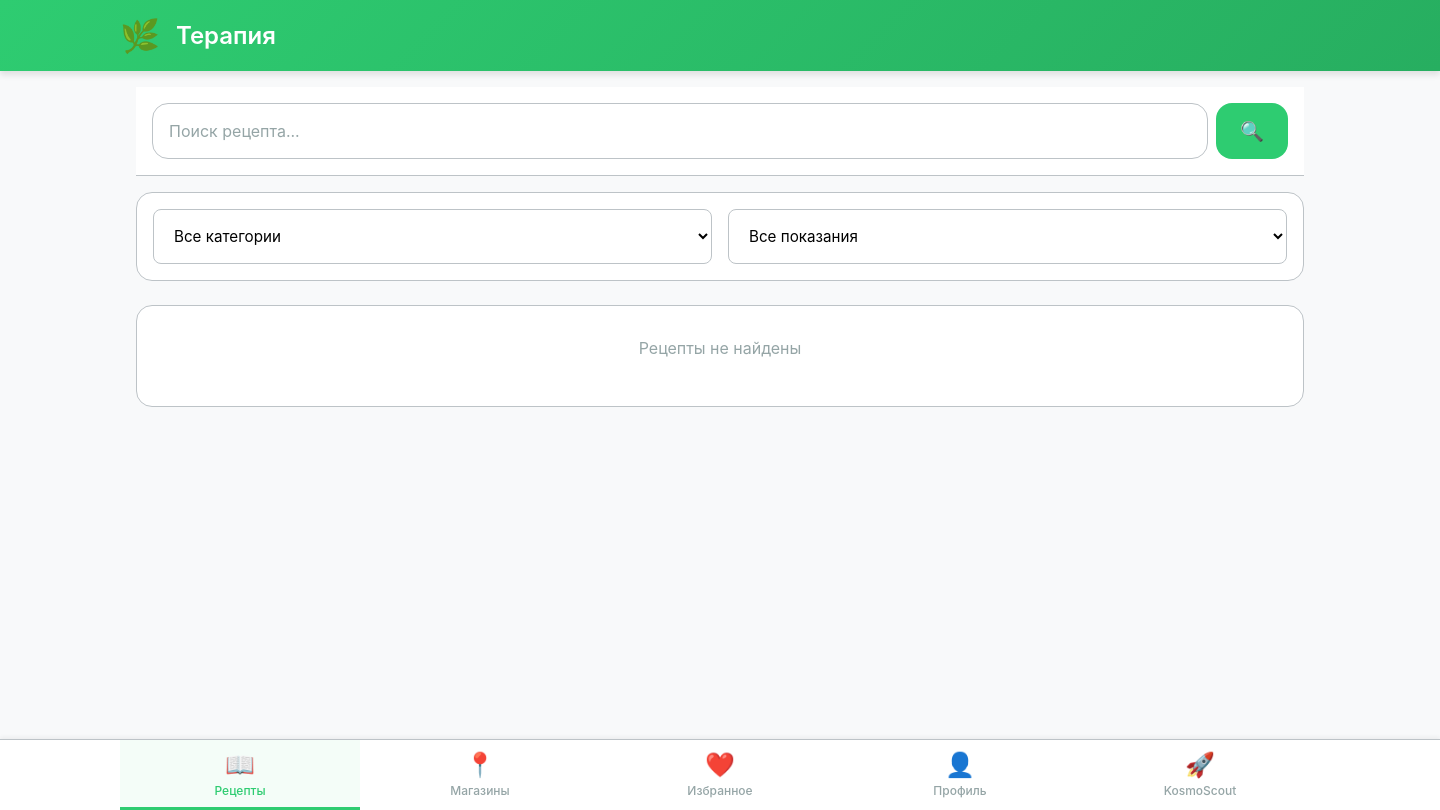
App › navigates between tabs via the footer
Click the link titled "Магазины" at coordinates (480, 774), box [450, 750, 510, 798]
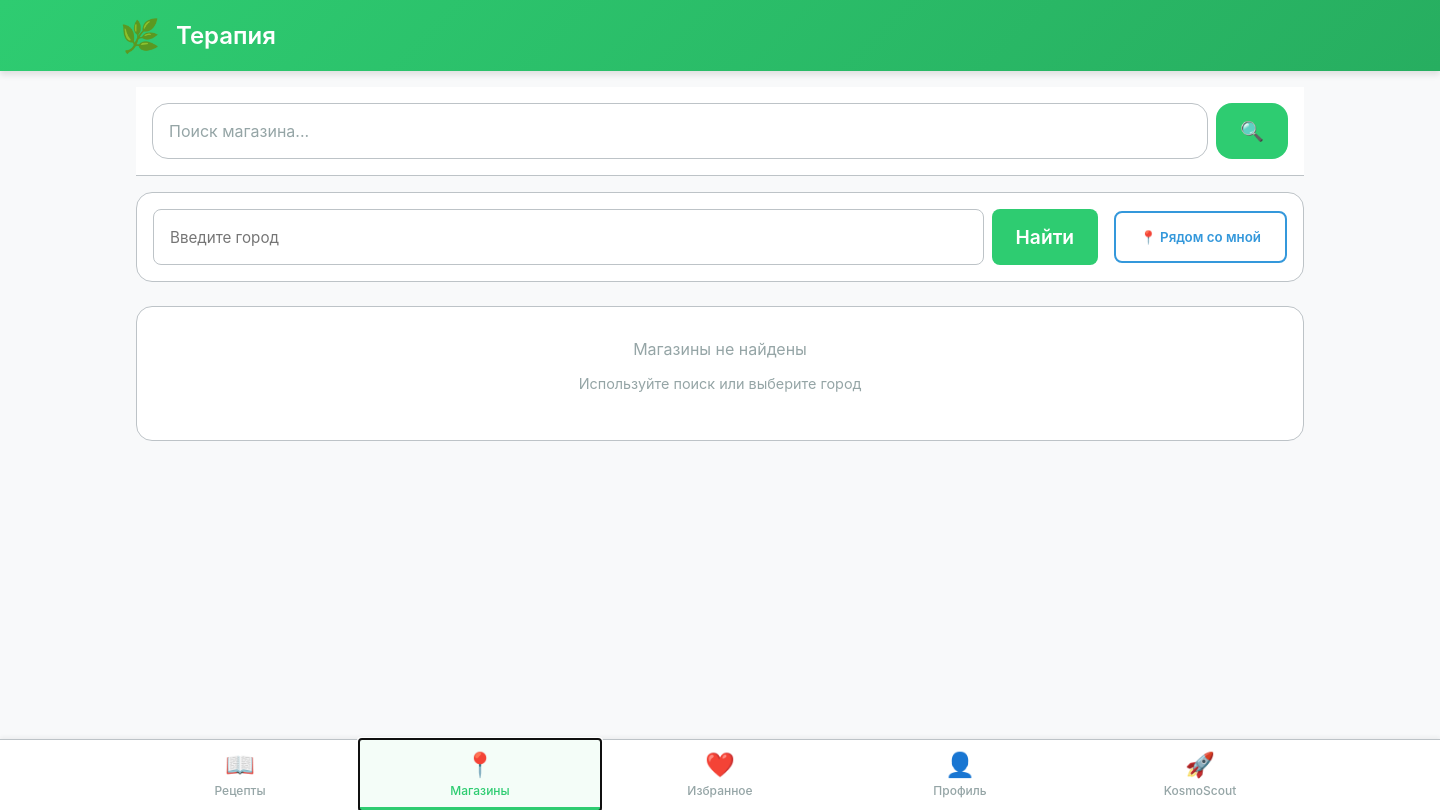
Expected: the field with placeholder "Поиск магазина..." is shown, [152, 103, 1208, 159]
Click the link titled "Профиль" at coordinates (960, 774), box [933, 750, 987, 798]
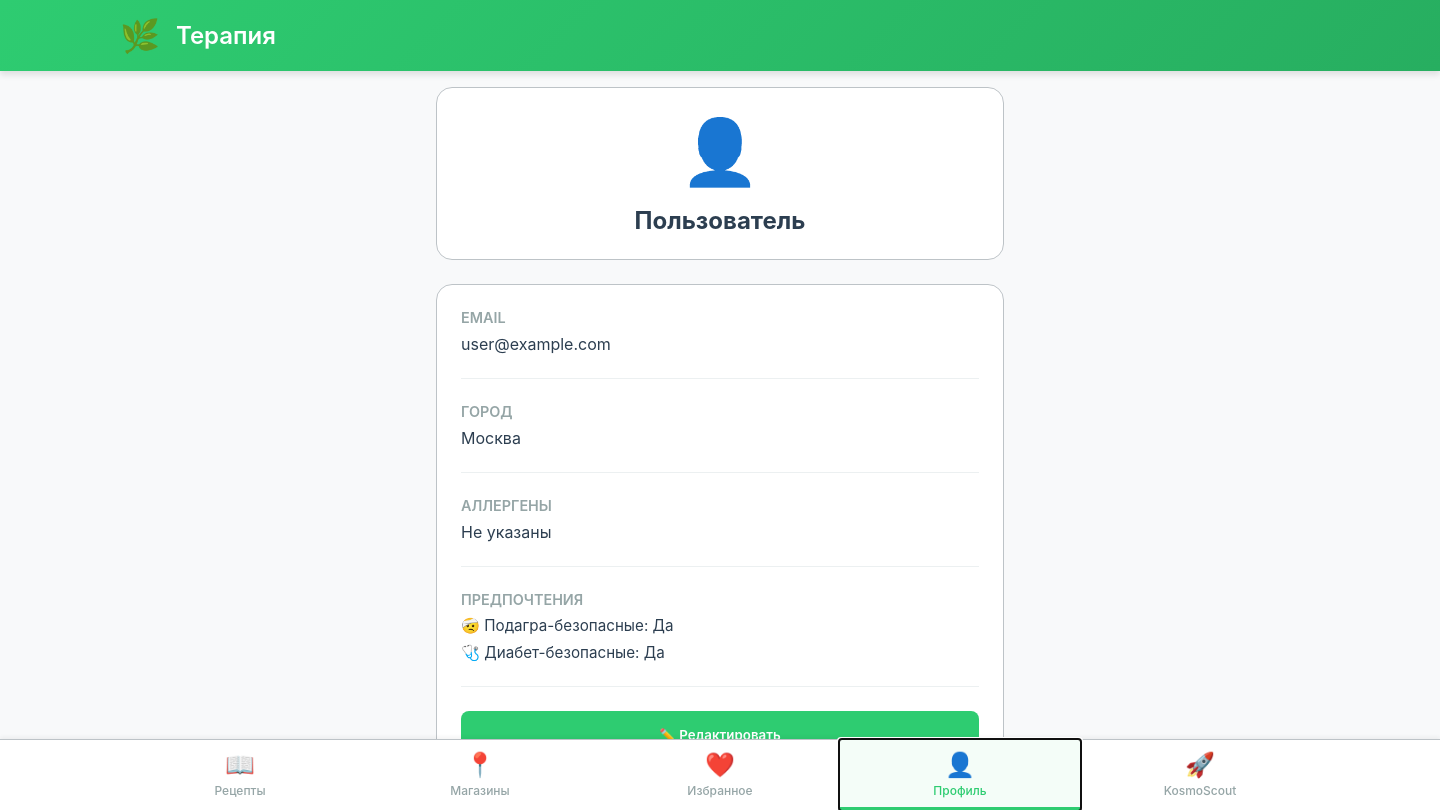
Expected: the heading "Пользователь" is shown, [635, 206, 806, 235]
